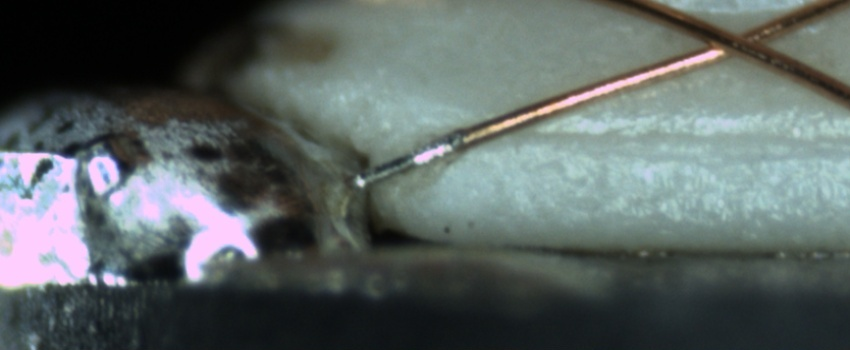CL: (672, 11, 790, 66)
DL: (461, 104, 850, 166)
TS: (349, 129, 464, 192)
